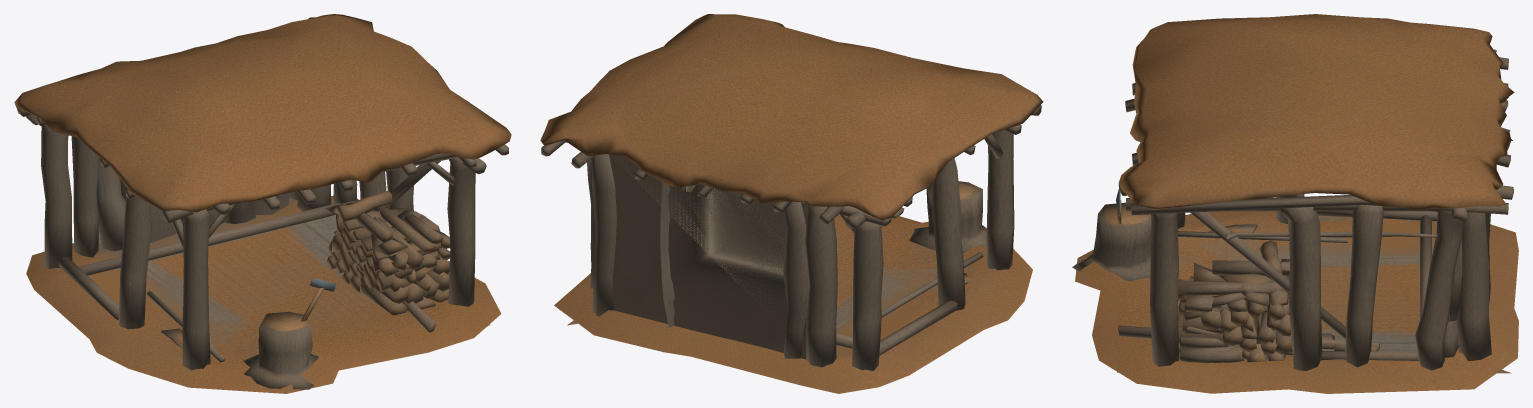
The model's file is odunluk.glb.
3 renders of one model, left to right at view 1: azimuth 30°, elevation 25°; view 2: azimuth 150°, elevation 25°; view 3: azimuth 270°, elevation 25°, orthographic. The views are drawn at different scales.
Bounding box in the file's own units: 0.9497 × 0.5518 × 0.9434.
Materials: 1 (1 with a texture image).
